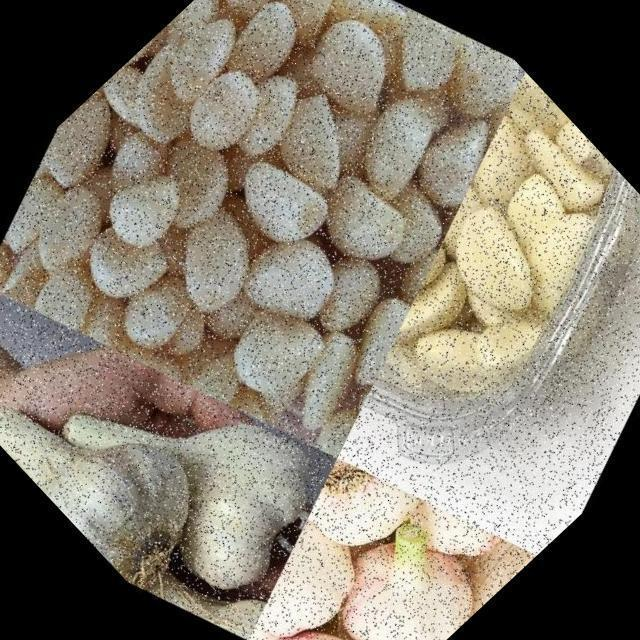garlic: (0, 0, 630, 554), (0, 283, 374, 640), (299, 69, 640, 453), (0, 316, 254, 606), (286, 468, 514, 640), (346, 439, 531, 627), (221, 497, 409, 640), (285, 436, 441, 592), (117, 504, 283, 640), (0, 366, 110, 538), (245, 562, 417, 640)
